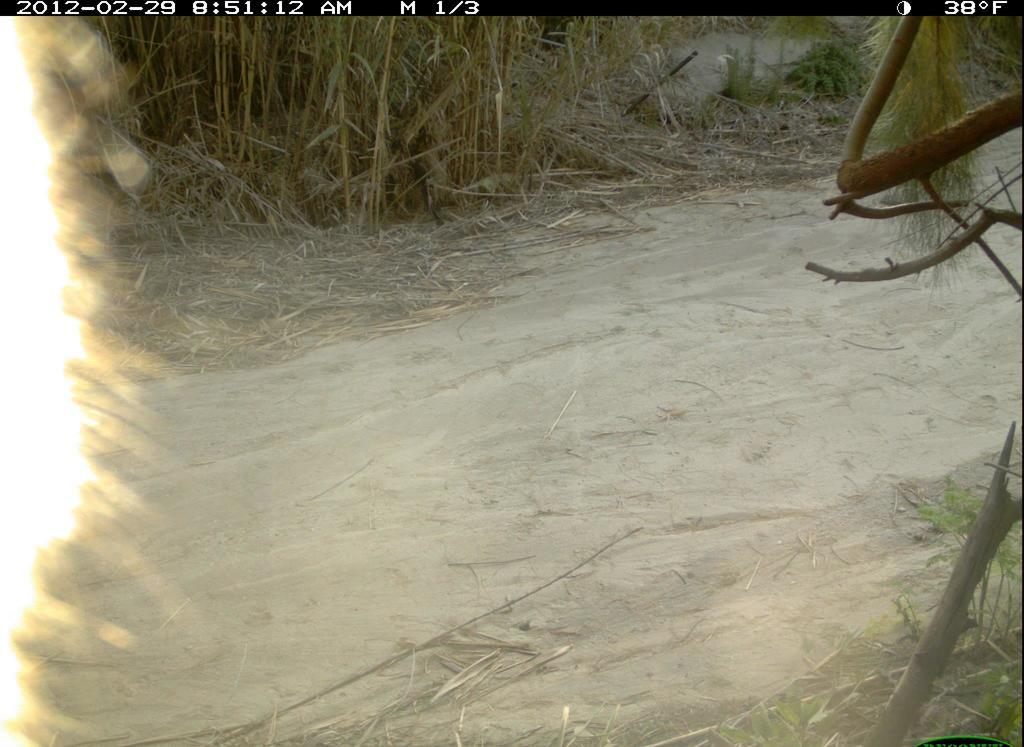coyote: (1, 15, 168, 747)
